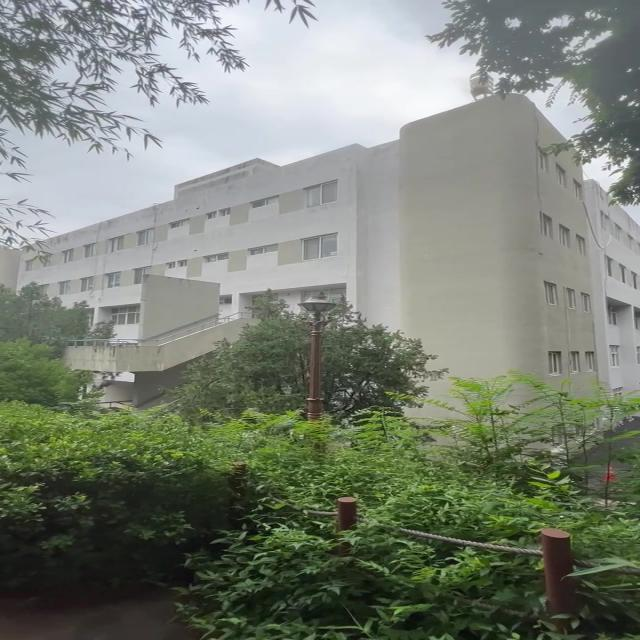building: (66, 118, 586, 329)
